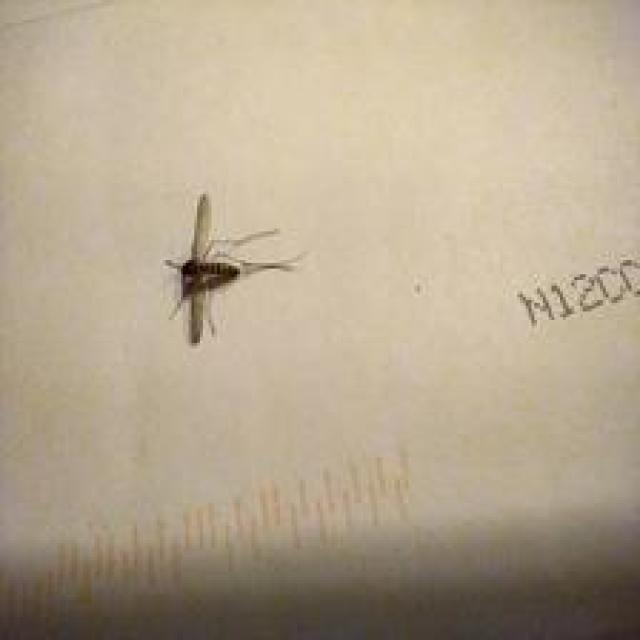Culex: (162, 191, 304, 346)
